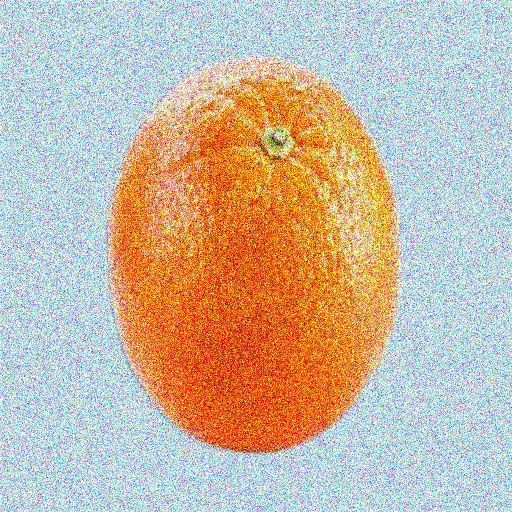fruit: (327, 155, 455, 507)
